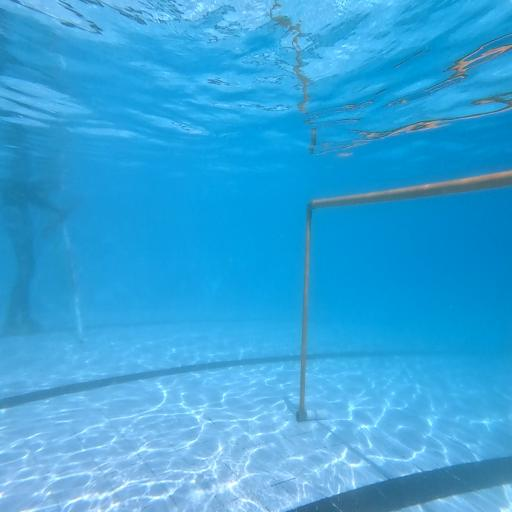gate: (295, 170, 512, 422)
